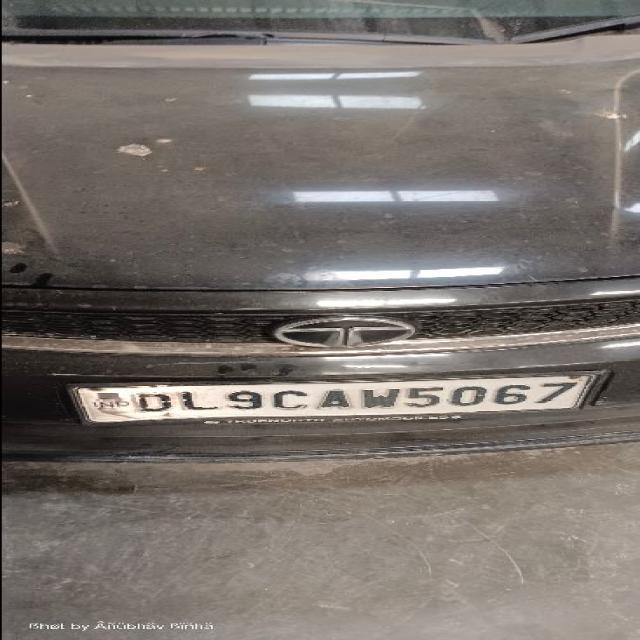license_plate: (61, 368, 610, 426)
